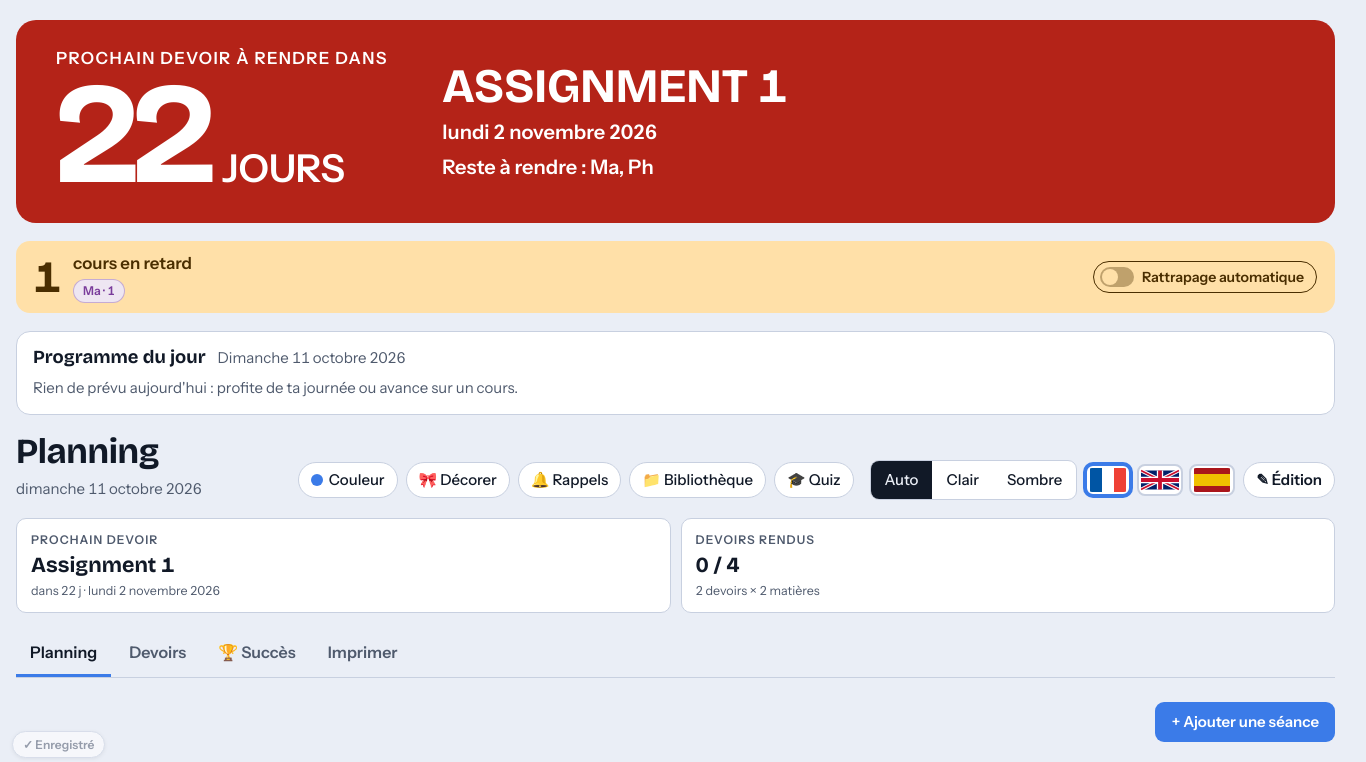
Test case: editing a tile where it is › exam: ✎ opens its dialog
Click the tab "Devoirs" at (158, 654), box [115, 631, 200, 677]
(page scrolled)
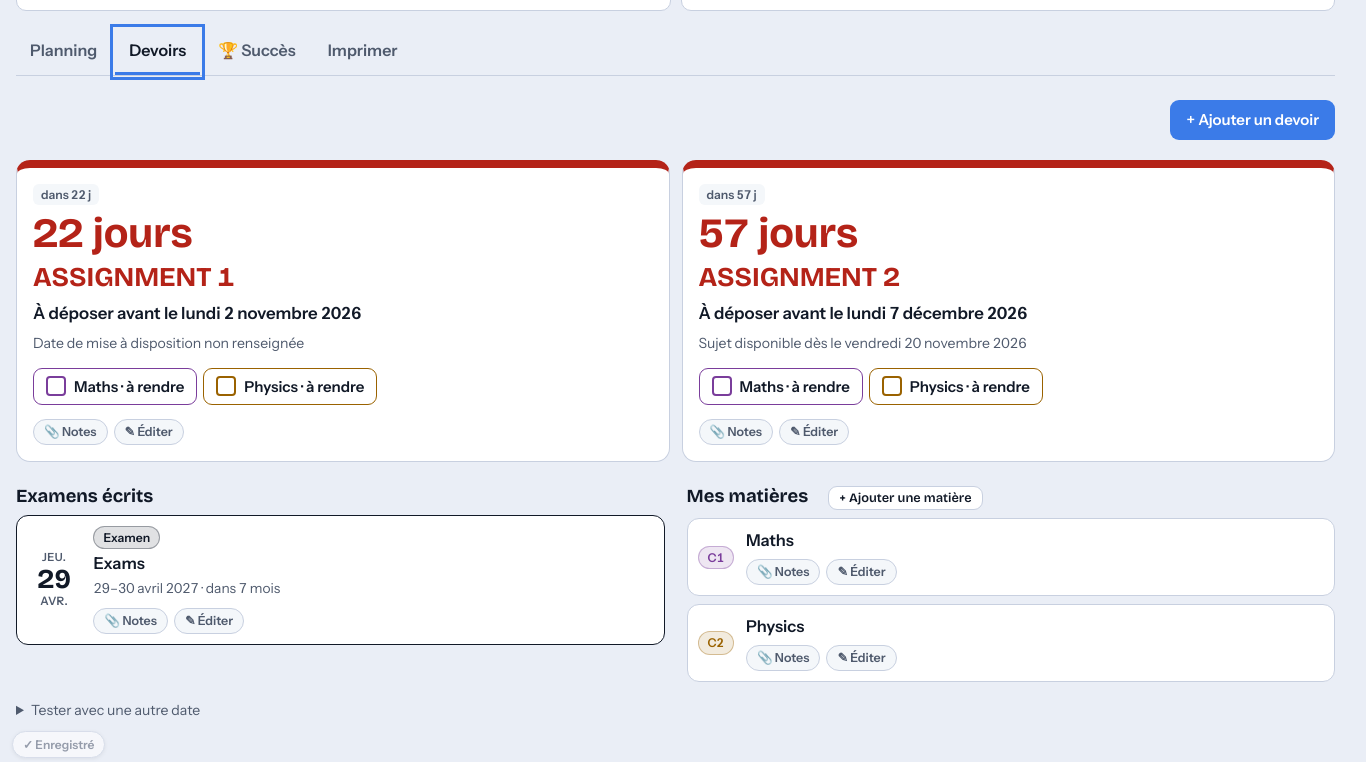
Click the button with aria-label "Éditer : Exams" at (209, 621), box [174, 608, 244, 634]
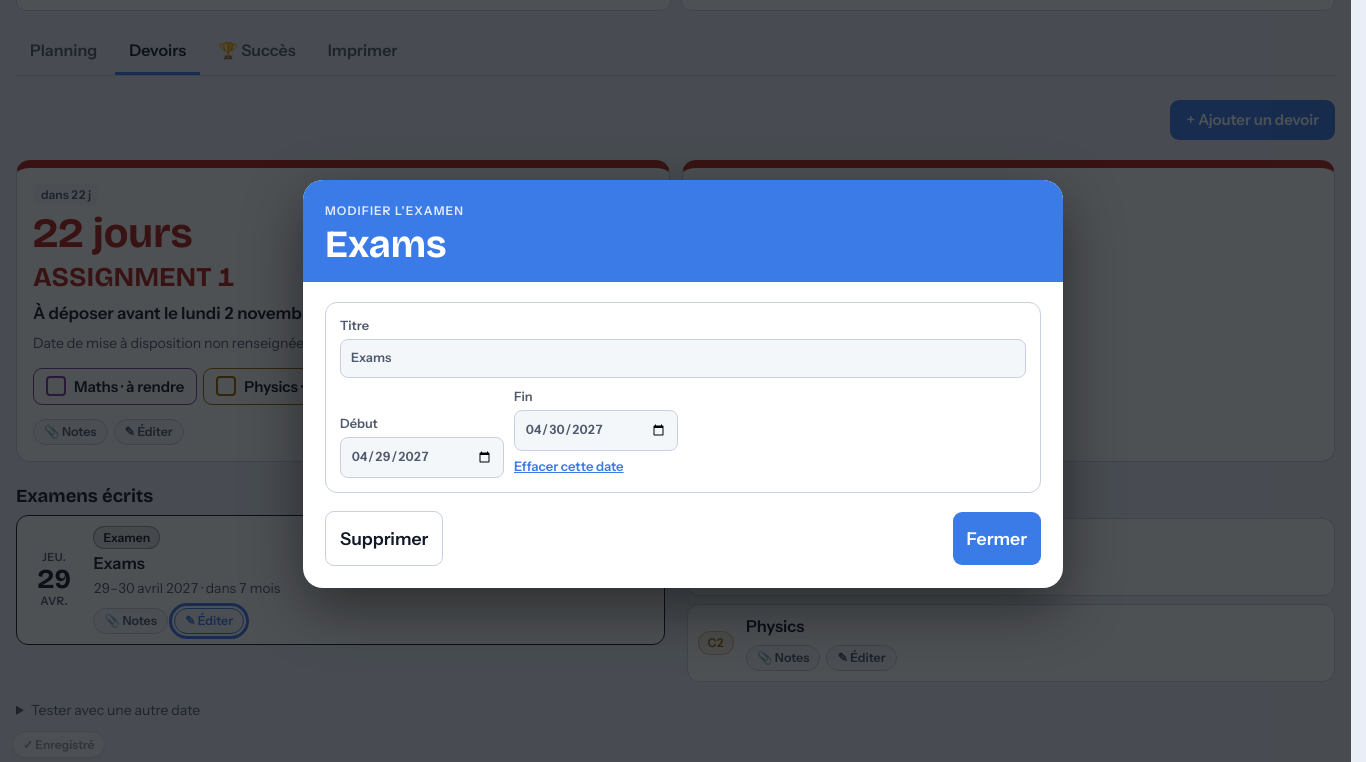
Expected: the text "Modifier l'examen" is shown, [325, 203, 464, 218]
